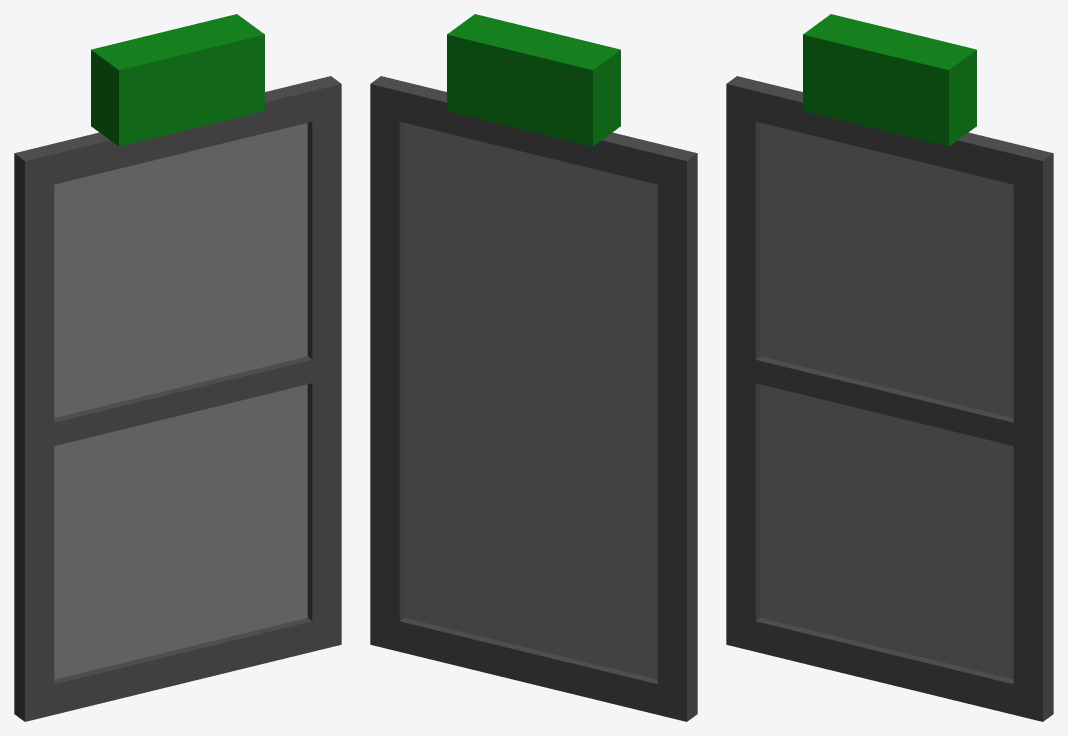
Rendered from SM_ExitDoor.fbx.
3 views of the same model, side by side, from view 1: azimuth 30°, elevation 25°; view 2: azimuth 150°, elevation 25°; view 3: azimuth 330°, elevation 25° (orthographic).
Parts seen in each view (by area): view 1: PorteExit; view 2: PorteExit; view 3: PorteExit.
Part boxes in pixels (left/top/right/bottom): PorteExit: left=14, top=14, right=341, bottom=721; PorteExit: left=370, top=14, right=697, bottom=721; PorteExit: left=726, top=14, right=1053, bottom=721.
Bounding box in the file's own units: 25.59 × 49.21 × 3.94.
